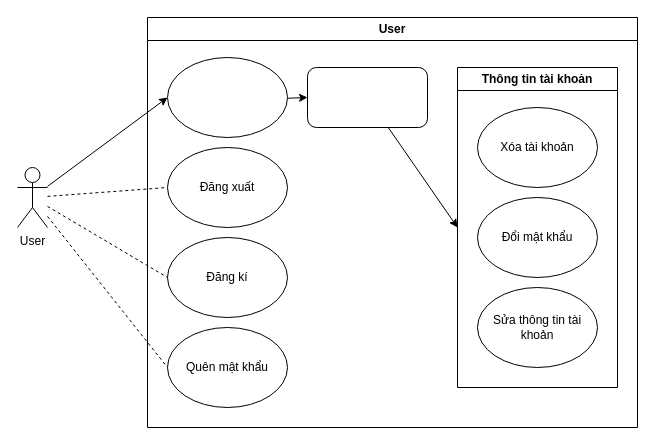
Image size: 655x445. Some labels were removed from this diagram. The centre of each missing label's shape, as x and y in pixels:
"Hệ thống" belongs at [367,97].
"Đăng nhập" belongs at [227,97].
